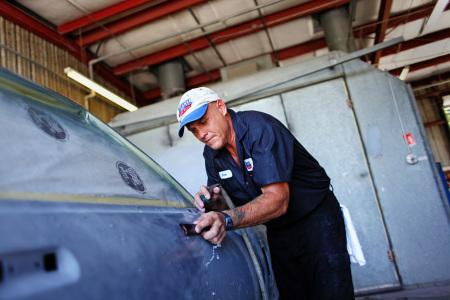person: (178, 85, 359, 300)
